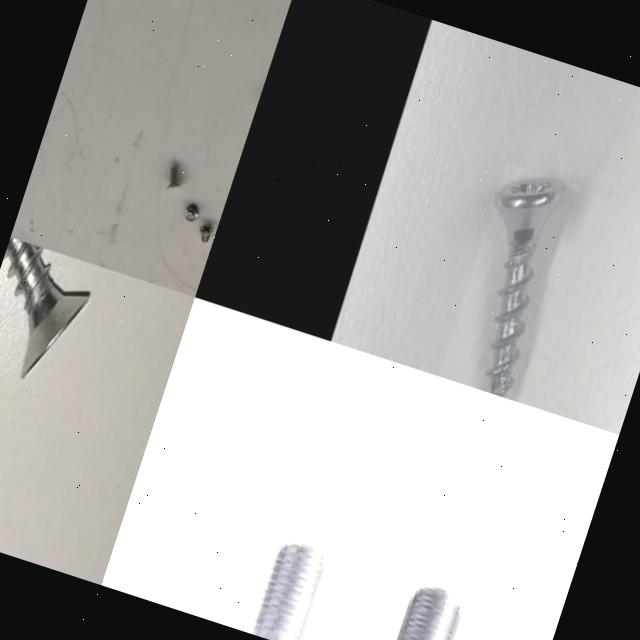Screw: (486, 180, 565, 398), (3, 238, 89, 380), (244, 542, 329, 640), (396, 587, 466, 640), (160, 159, 190, 196), (178, 200, 204, 228), (194, 218, 216, 249)
